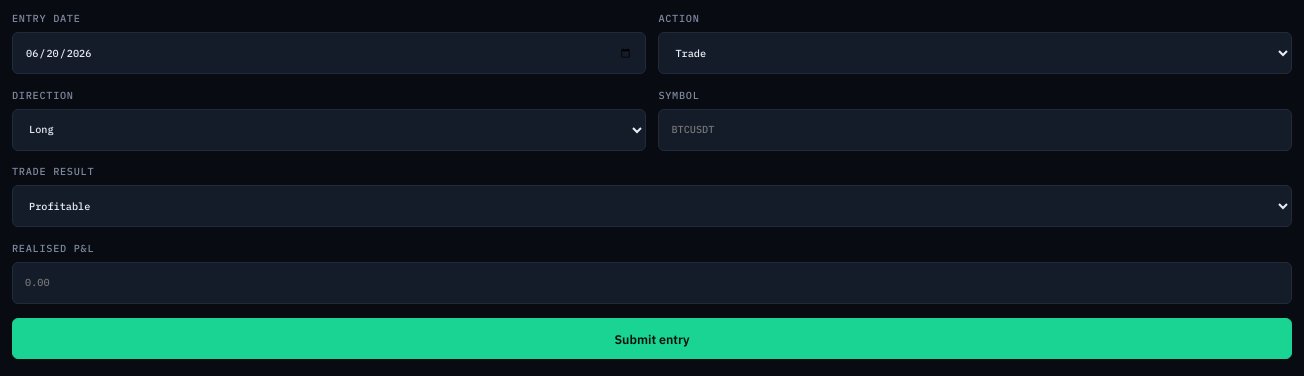
Scenario: dashboard forms › uses trade result to submit losses without manually typing a minus
Expected: the number field labelled "Realised P&L" is not empty, [12, 262, 1292, 304]
Type "eth" into the field labelled "Symbol".
click(975, 130); type("eth")  # box [658, 109, 1292, 151]
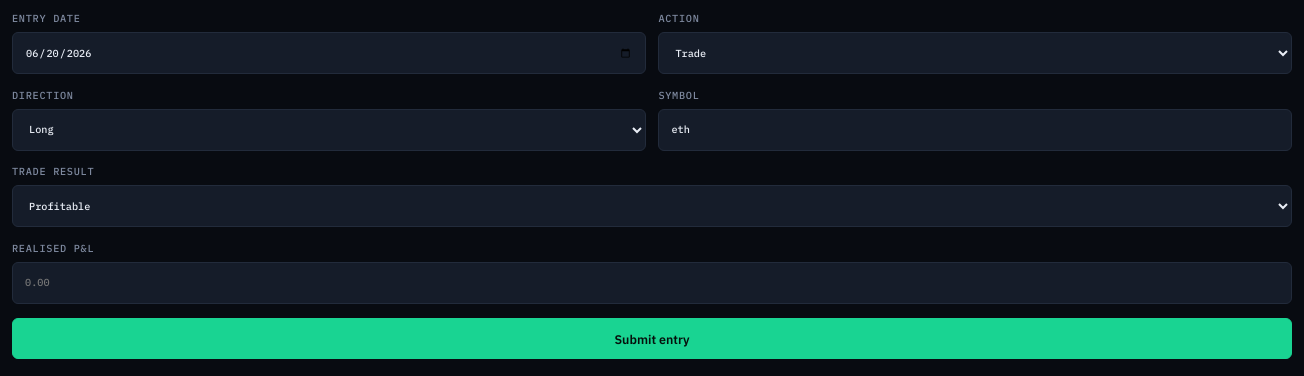
Select "Not profitable" in the dropdown labelled "Trade result" at (652, 206), box [12, 185, 1292, 227]
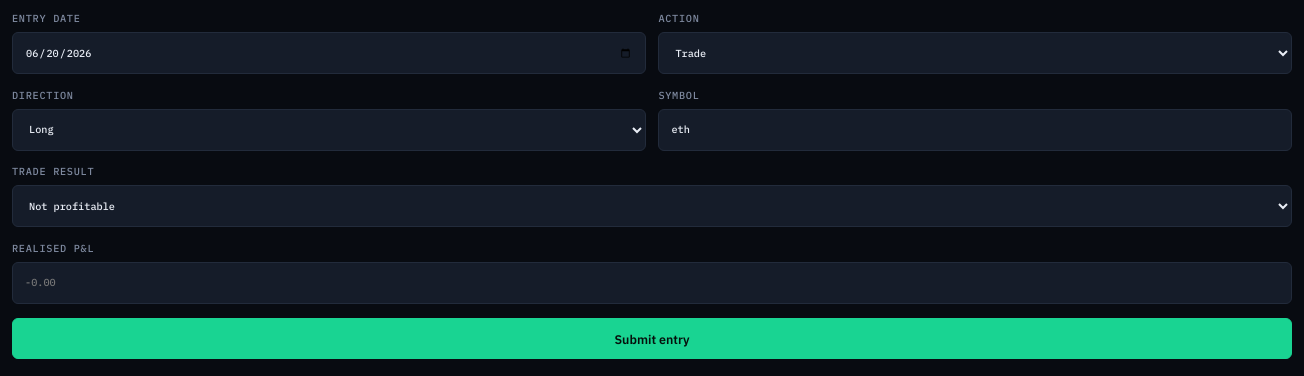
Type "45.5" into the number field labelled "Realised P&L".
click(652, 283); type("45.5")  # box [12, 262, 1292, 304]
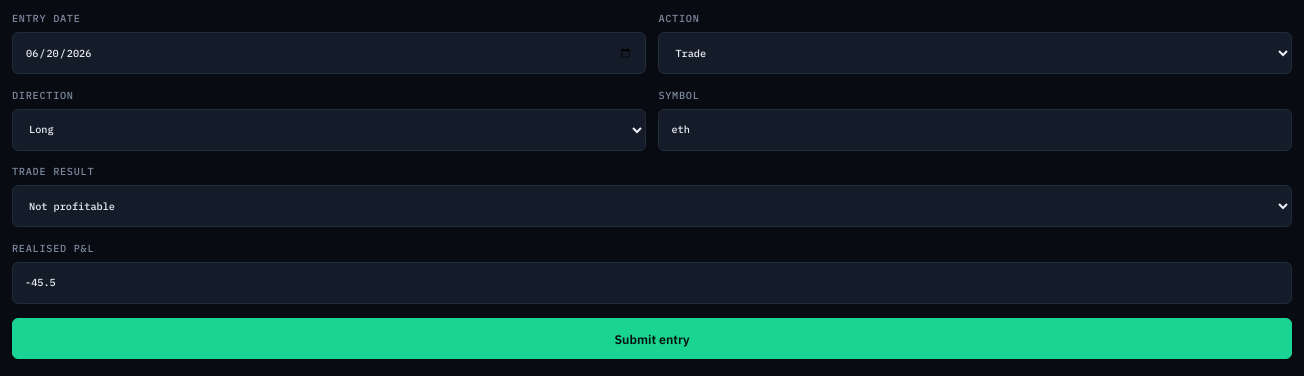
Expected: the number field labelled "Realised P&L" holds "-45.5", [12, 262, 1292, 304]
Click the button "Submit entry".
click(652, 339)  # box [12, 318, 1292, 359]
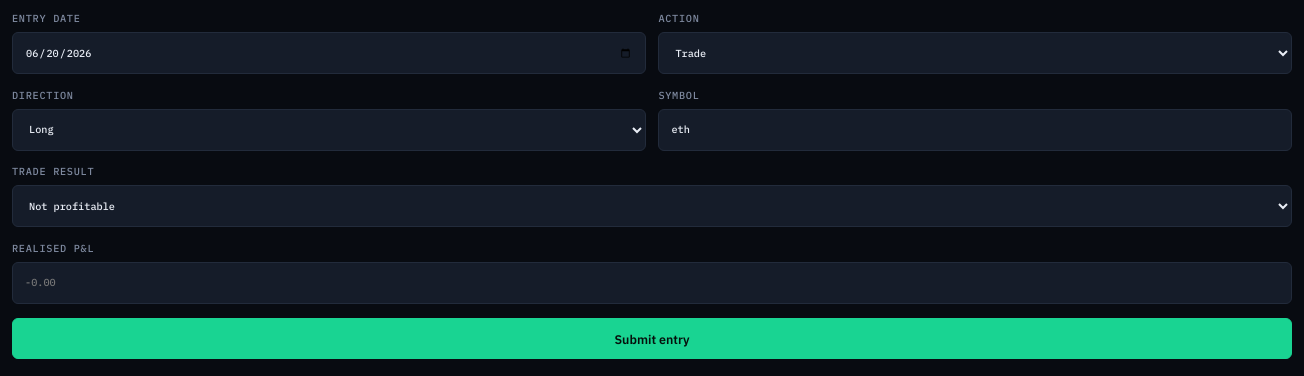
Expected: the number field labelled "Realised P&L" is not empty, [12, 262, 1292, 304]
